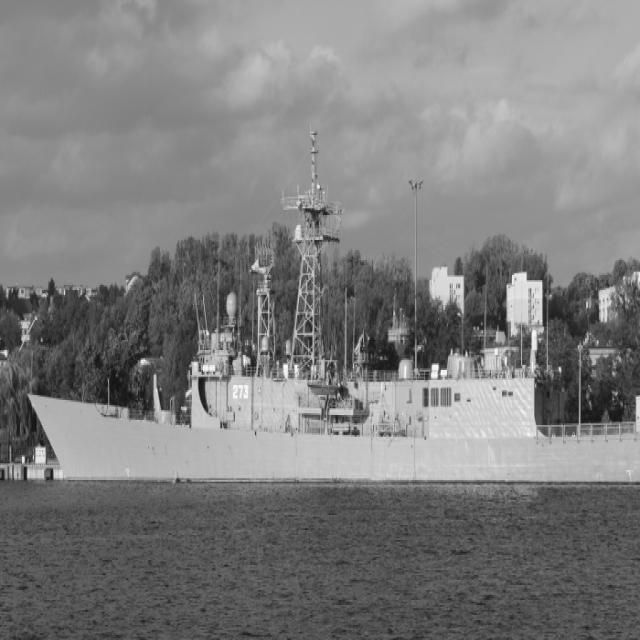Fragata: (25, 111, 640, 498)
